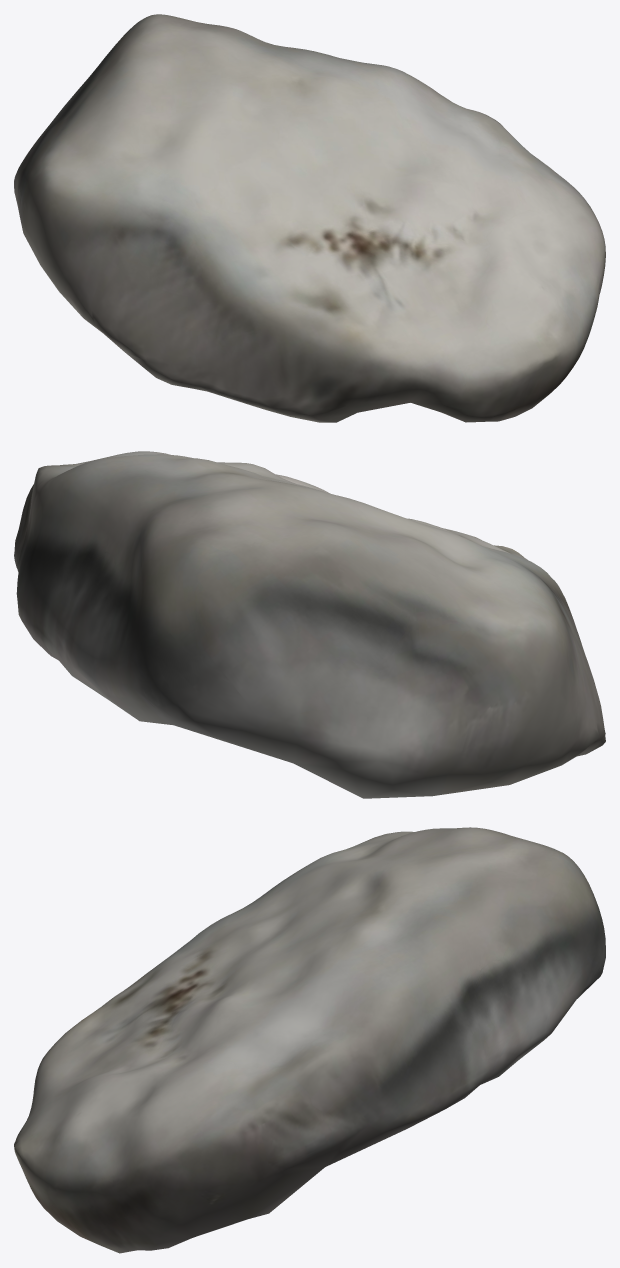
3 renders of one model, top to bottom at view 1: azimuth 30°, elevation 25°; view 2: azimuth 150°, elevation 25°; view 3: azimuth 270°, elevation 25°, orthographic. The views are drawn at different scales.
Bounding box in the file's own units: 0.1749 × 0.1017 × 0.1771.
Materials: 1 (1 with a texture image).
